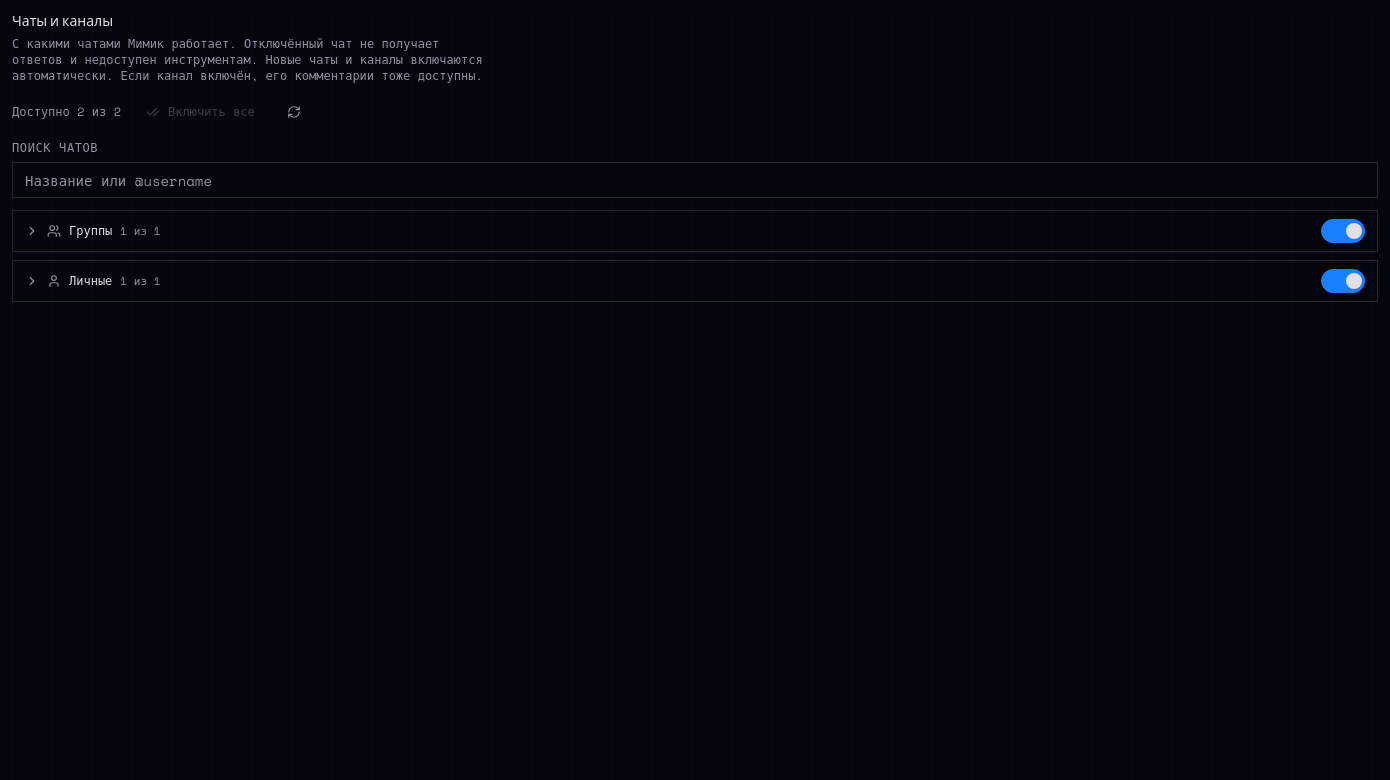
Test case: ChatsSettings › поиск по названию не различает регистр и «ё»
The image size is (1390, 780).
Expected: the text "Доступно 2 из 2" is shown, [12,104,121,120]
In the field labelled "Поиск чатов": (695, 180) [12,162,1378,198], type "ЕЛКИ"
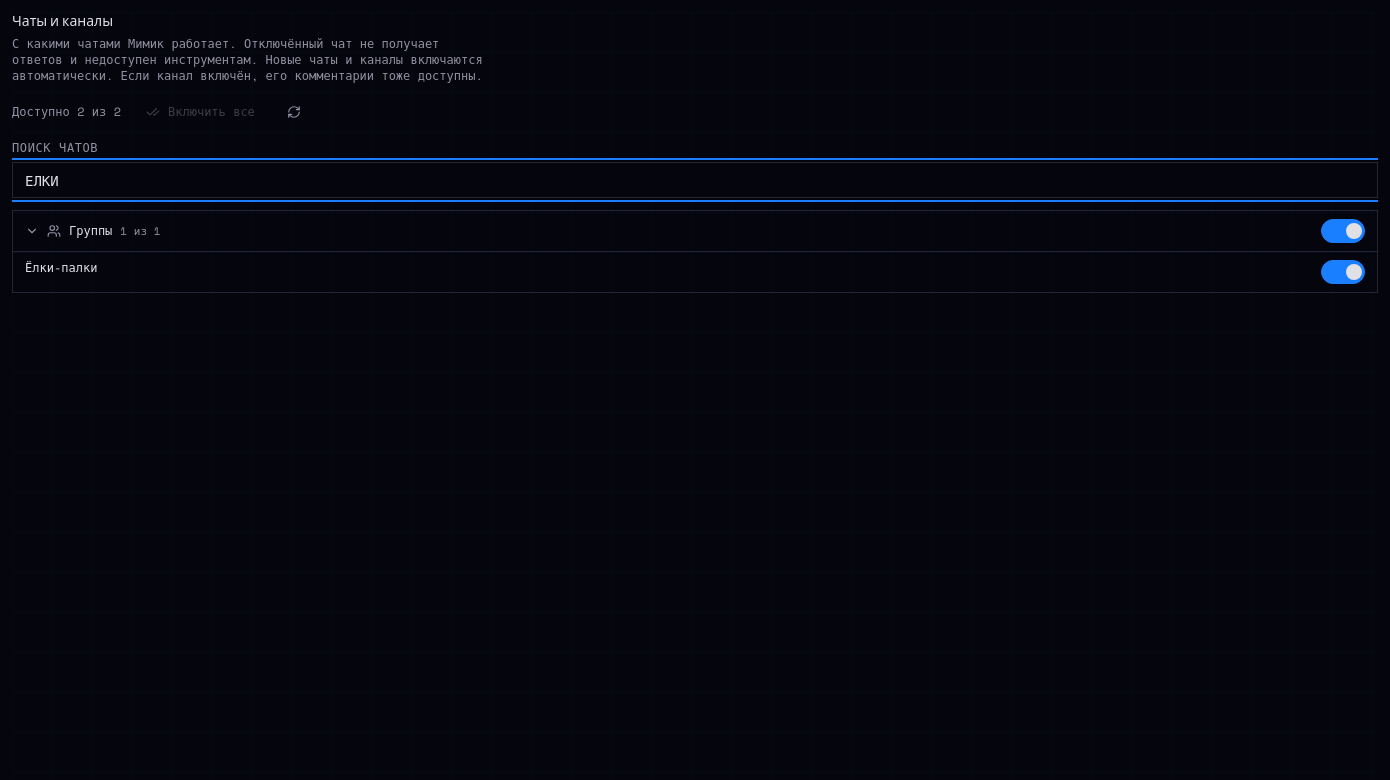
Result: the switch named "Ёлки-палки" is shown at [1321,260,1365,284]
